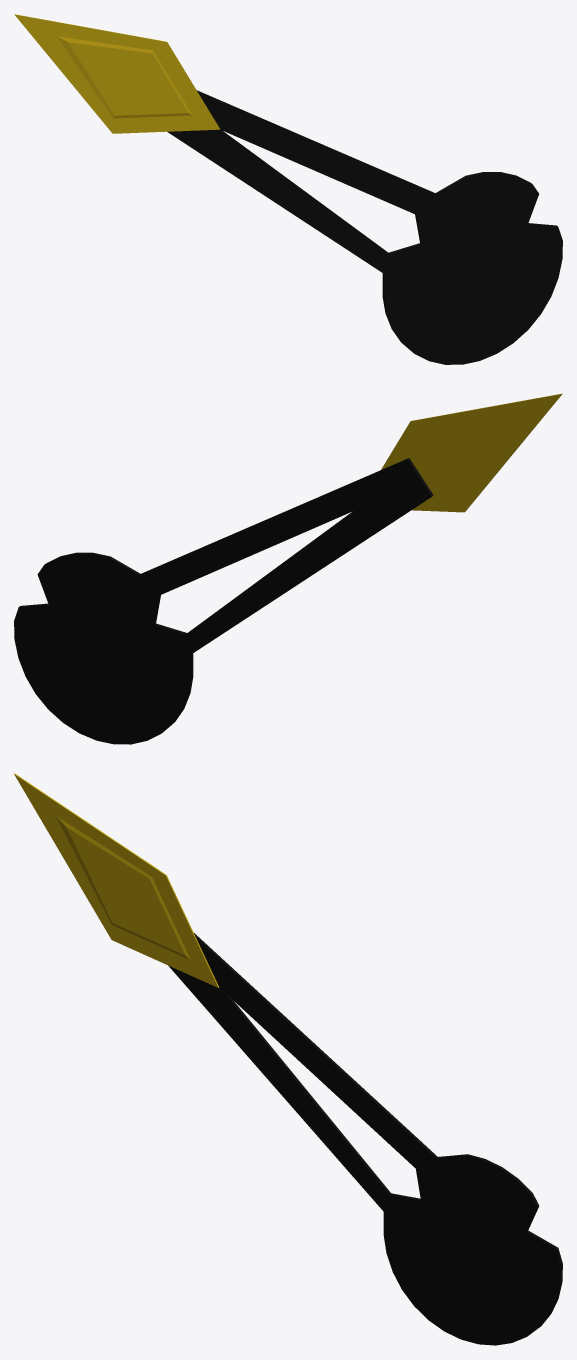
The model's file is hourhand.glb.
The picture shows the model from 3 angles, top to bottom: view 1: azimuth 30°, elevation 25°; view 2: azimuth 150°, elevation 25°; view 3: azimuth 330°, elevation 25°; orthographic projection.
Parts seen in each view (by area): view 1: Plane.003; view 2: Plane.003; view 3: Plane.003.
Boxes of the visible parts, bbox=[...] form: Plane.003: bbox=[14, 14, 562, 364]; Plane.003: bbox=[14, 393, 562, 744]; Plane.003: bbox=[14, 773, 562, 1345].
Size of the model in its own units: 1.99 by 1.6 by 0.021.
